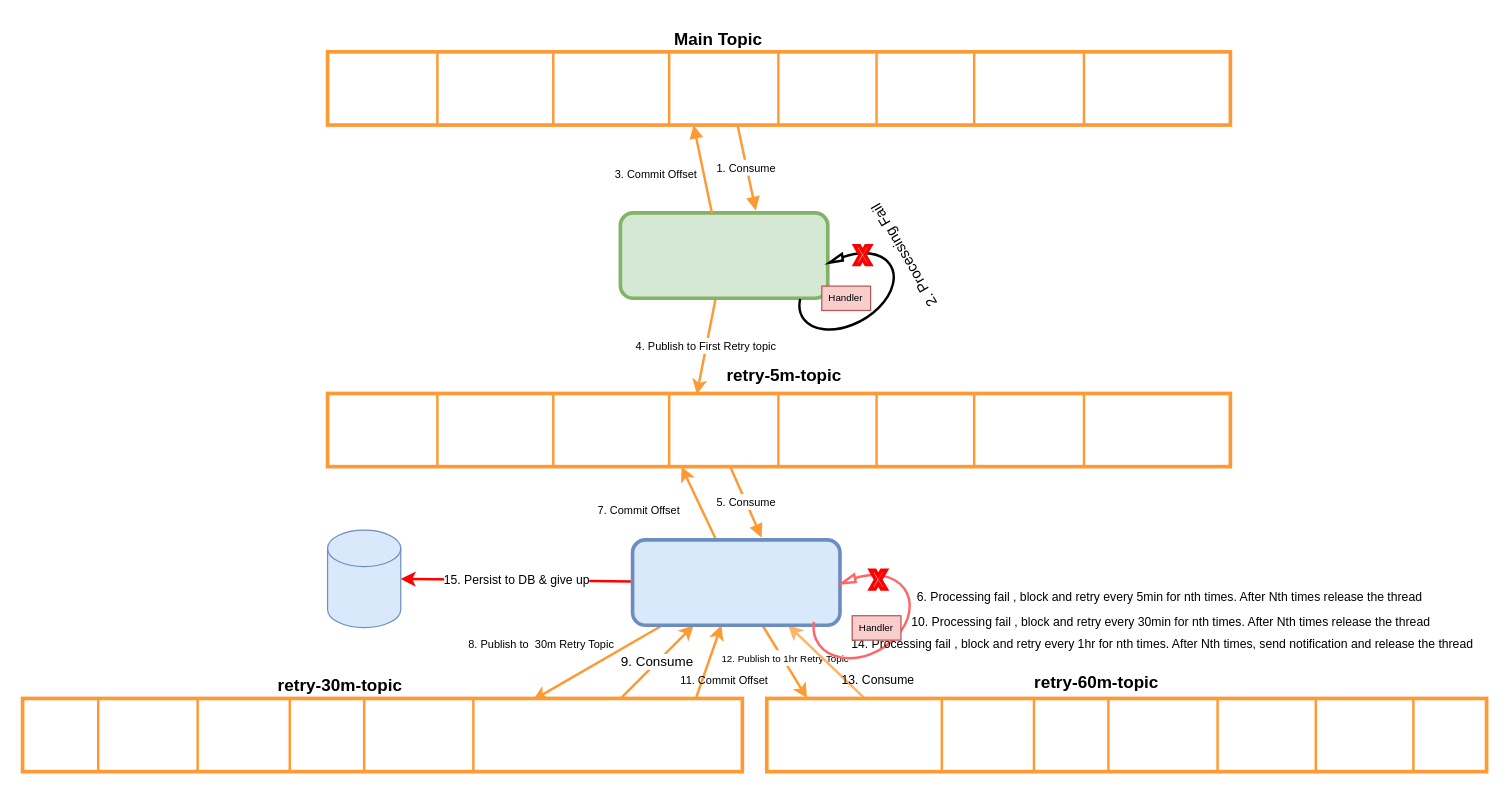
This 1509x794 diagram has some shape labels left out. The centre of each missing label's shape, as x and y in pixels:
Main Consumer: the point at 723,255
Retry Consumer: the point at 735,581
